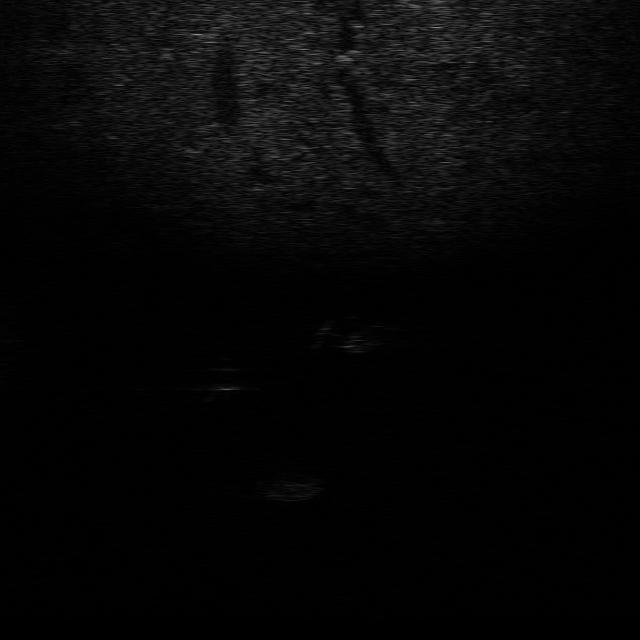ball: (192, 362, 252, 396)
circle cage: (240, 473, 326, 502)
human body: (308, 312, 402, 358)
